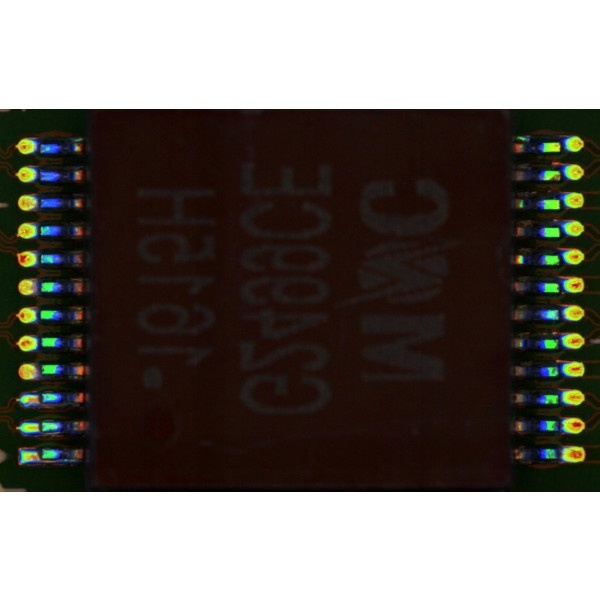Bad_podu: (28, 452, 48, 460), (28, 424, 47, 431), (31, 395, 49, 402)
Bad_qiaojiao: (41, 459, 77, 464)
